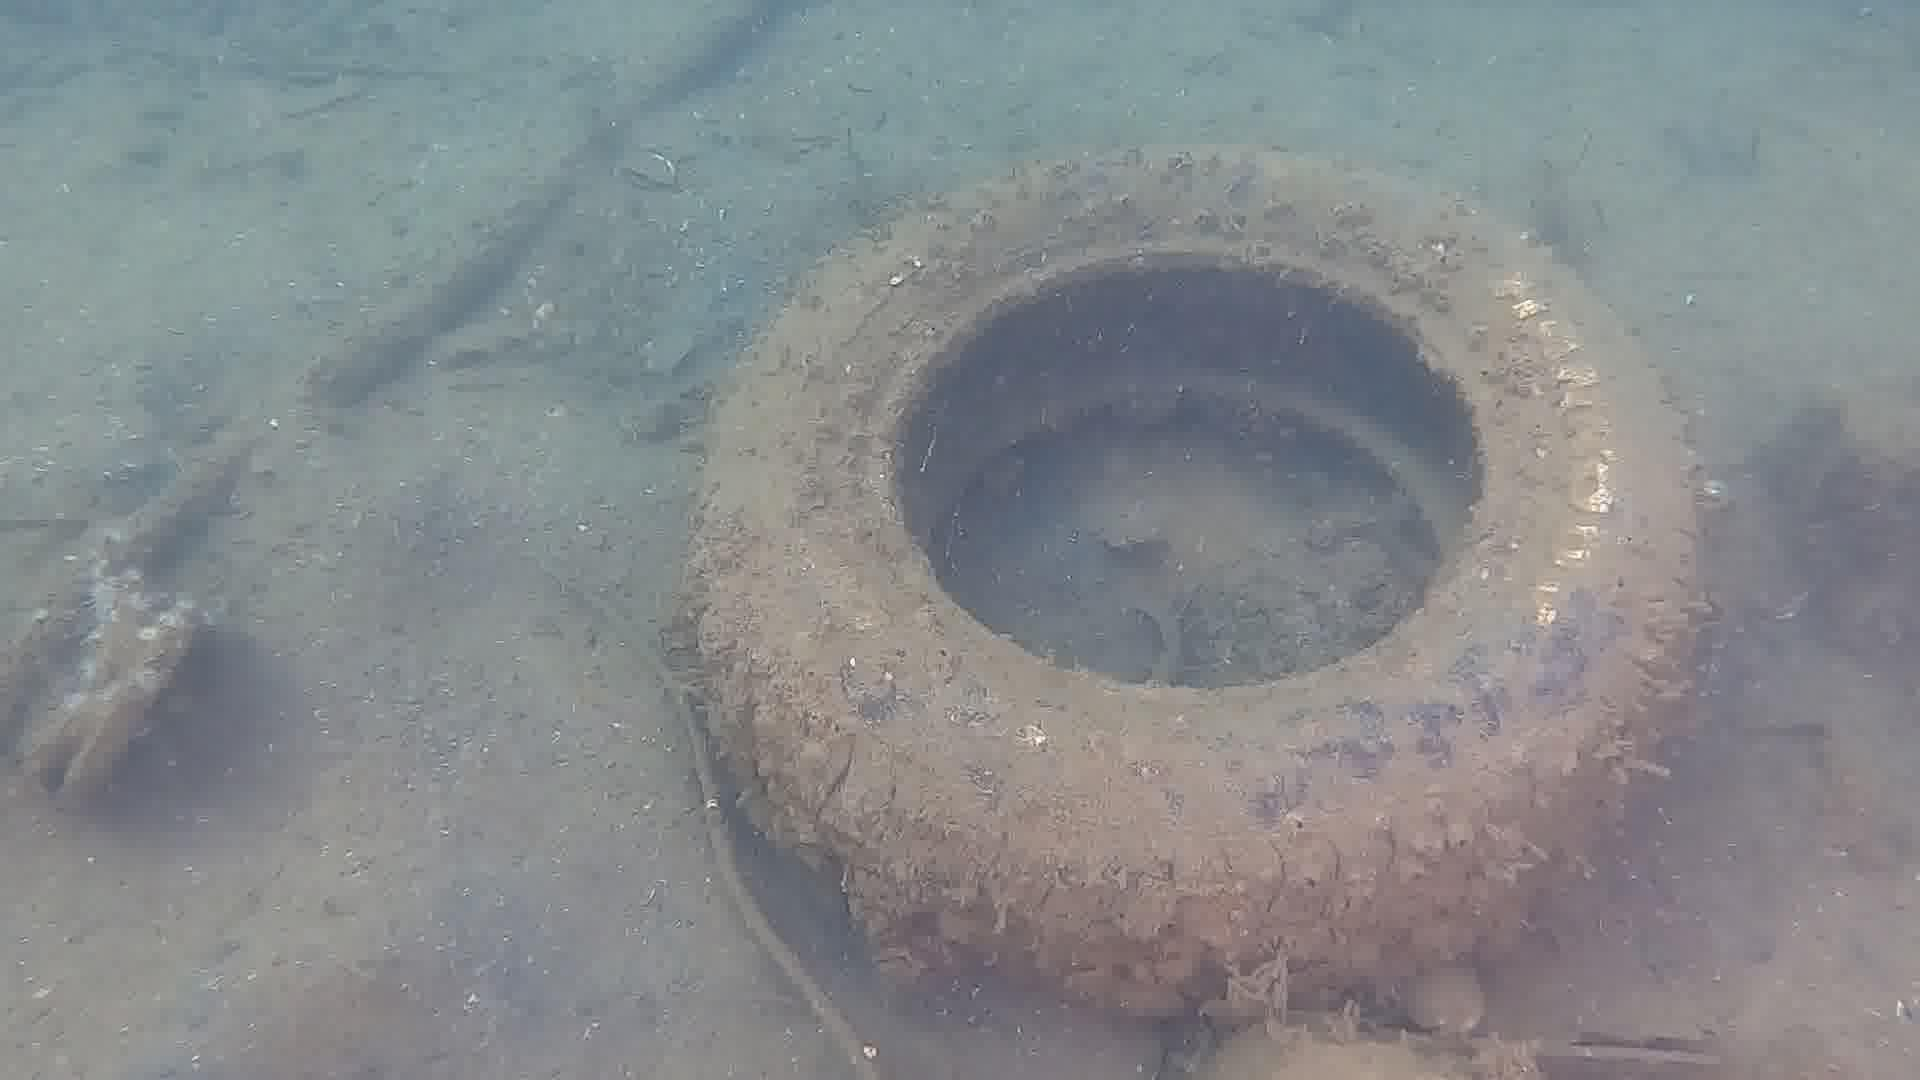tire: (684, 138, 1702, 1010)
